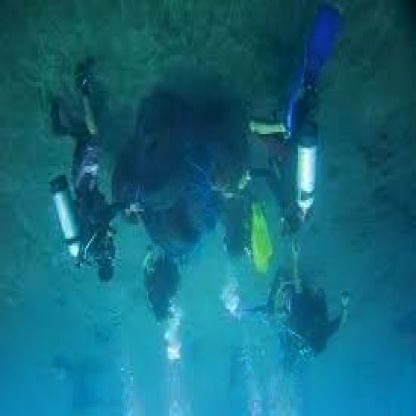tire: (134, 98, 206, 211), (152, 161, 214, 275)
